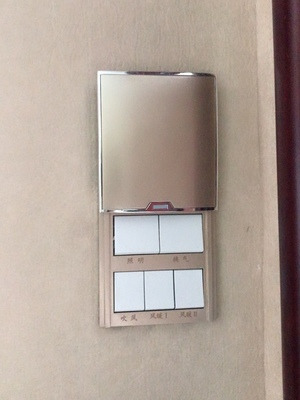switch: (155, 212, 209, 257), (109, 213, 162, 256), (140, 268, 179, 313), (110, 269, 147, 315), (171, 267, 208, 311)
